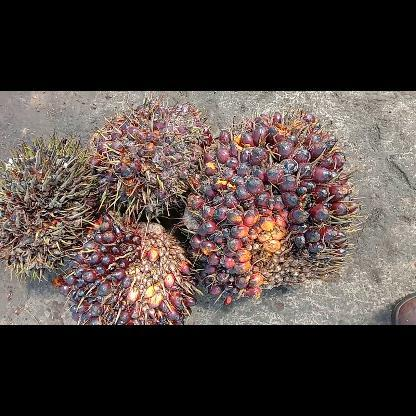Kurang masak: (88, 91, 210, 221), (61, 216, 200, 324)
TBS abnormal: (1, 136, 96, 278)
TBS masak: (182, 106, 362, 306)
